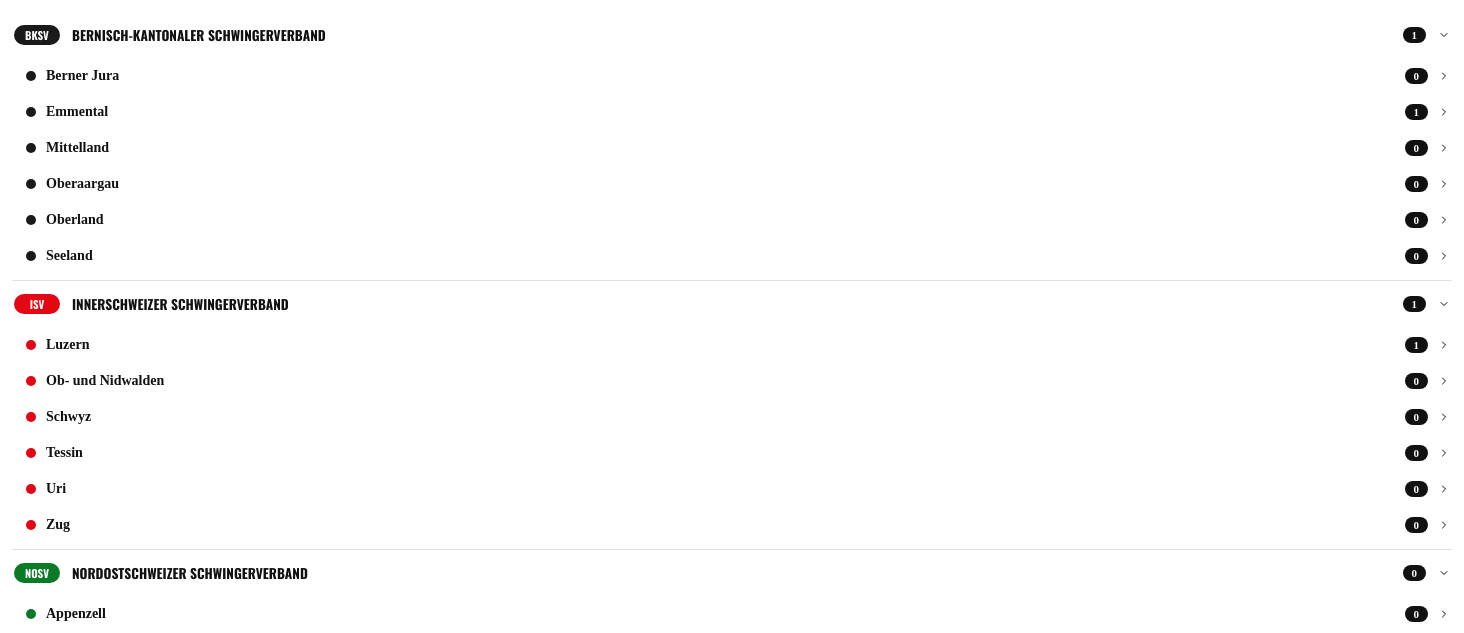
AssociationGroups › lists a cross-border venue under its Verband with its own canton arms
Click the button with test id "group-emmental" at (77, 112), box [12, 94, 1452, 130]
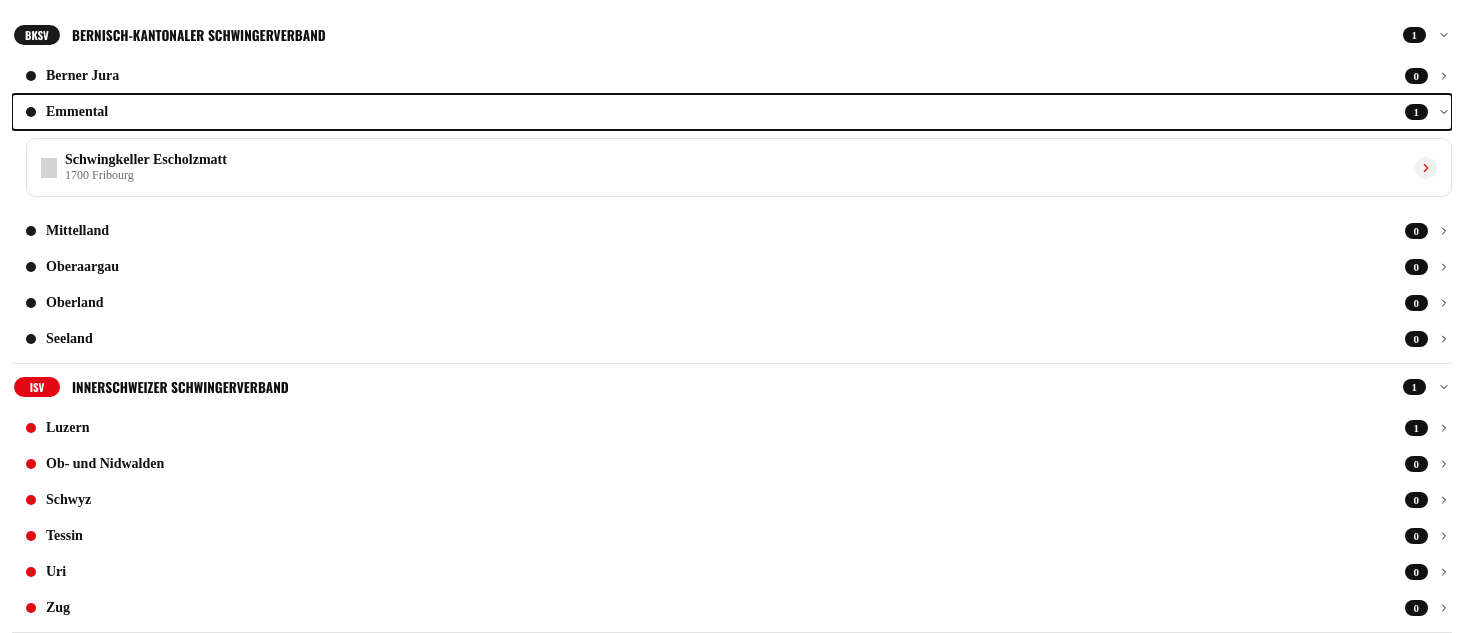
Check: the element with test id "venue-row" shows "Schwingkeller Escholzmatt", box [65, 152, 227, 167]
